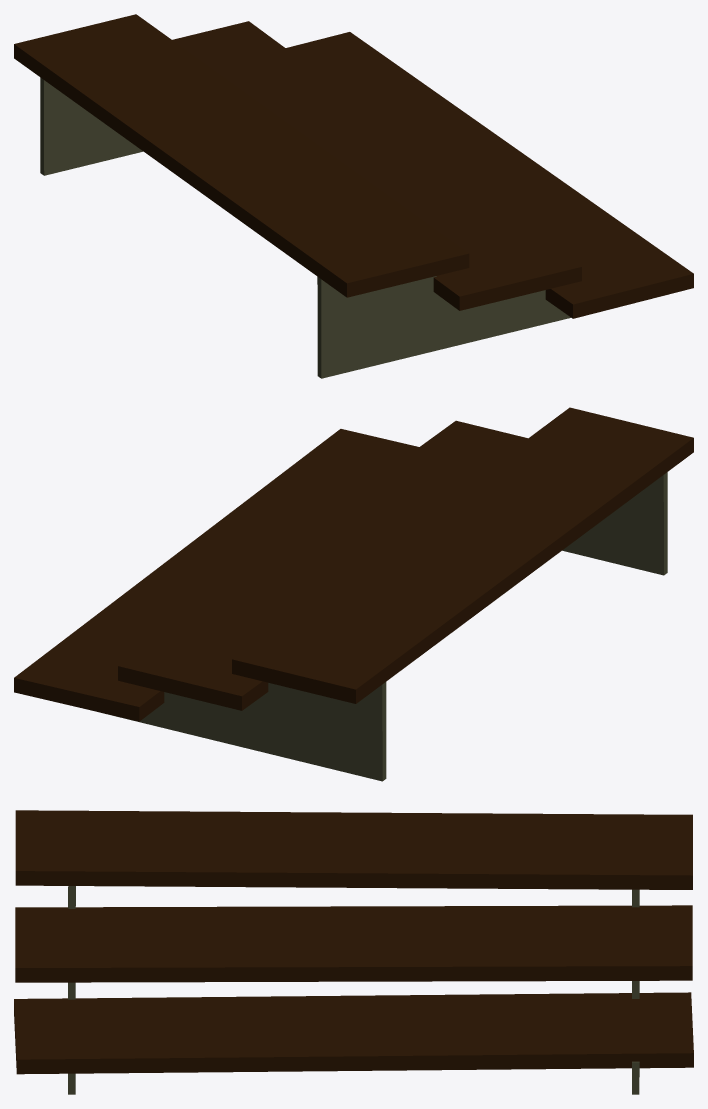
The model's file is Stairs.fbx.
3 renders of one model, top to bottom at view 1: azimuth 30°, elevation 25°; view 2: azimuth 150°, elevation 25°; view 3: azimuth 270°, elevation 25°, orthographic.
Visible parts, largest first — view 1: Cube, Cube.001, Cube.002, Plane, Plane.001; view 2: Cube, Cube.001, Cube.002, Plane.001, Plane; view 3: Cube, Cube.001, Cube.002, Plane.001, Plane.
Part boxes in pixels (x1,y1,x2,y2): Cube: (14, 14, 469, 297); Cube.001: (172, 21, 581, 310); Cube.002: (286, 32, 693, 318); Plane: (317, 276, 570, 378); Plane.001: (40, 77, 143, 175); Cube: (232, 407, 693, 703); Cube.001: (118, 420, 527, 710); Cube.002: (14, 429, 418, 721); Plane.001: (102, 682, 386, 781); Plane: (562, 472, 667, 575); Cube: (15, 810, 692, 889); Cube.001: (15, 905, 692, 982); Cube.002: (14, 992, 693, 1074); Plane.001: (632, 889, 639, 1094); Plane: (68, 886, 75, 1094).
Size of the model in its own units: 543 by 171 by 905.
